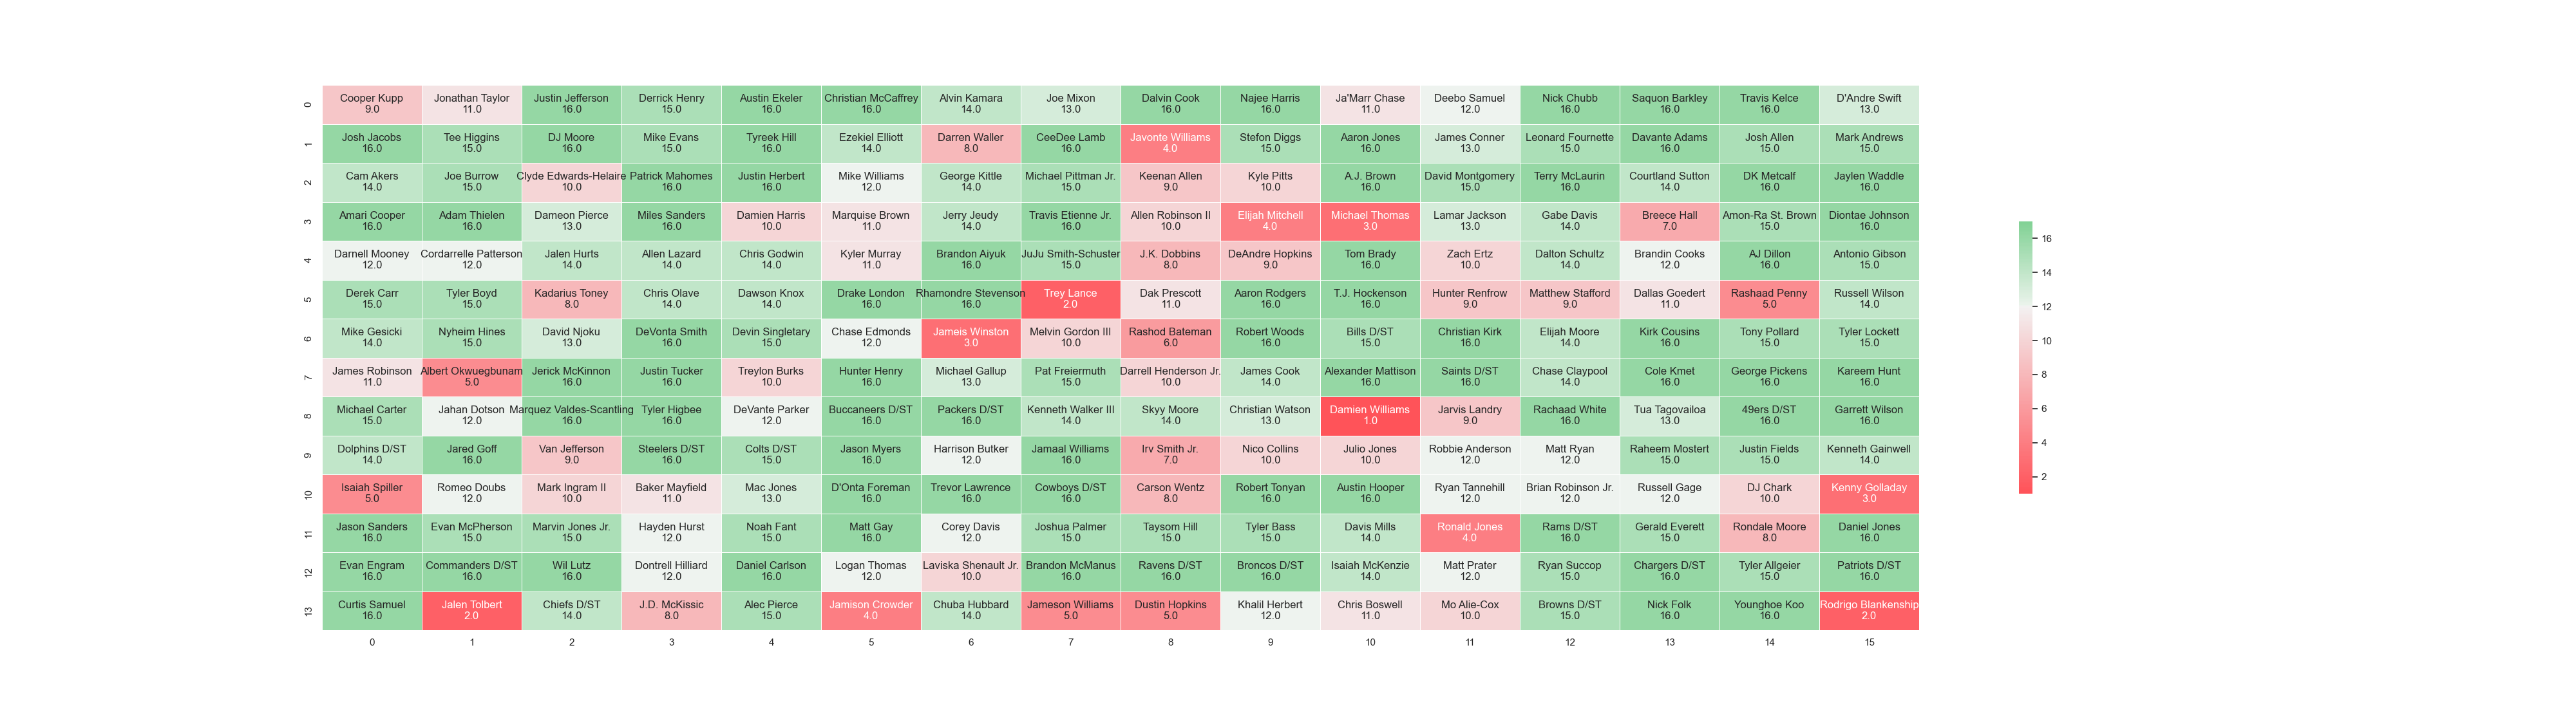

Layout of this report page (visuals, bound fields, positions):
{"tool":"powerbi","page":{"name":"Page 3","canvas":[1280,720],"ordinal":2},"visuals":[{"type":"pivotTable","fields":{"Rows":["Query1.round","Query1.playername"],"Columns":["Query1.pick"],"Values":["Sum(Query1.total)"]},"box":[0,0,1280,720],"z":1}]}

Visuals, with their boxes on the page's 1280x720 design canvas (x1, y1, x2, y2). These are canvas units, not pixel positions in the 2576x708 screenshot, which may show the page scaled, cropped or inside an application window:
pivotTable - Query1.round x Query1.playername: rect(0, 0, 1280, 720)
